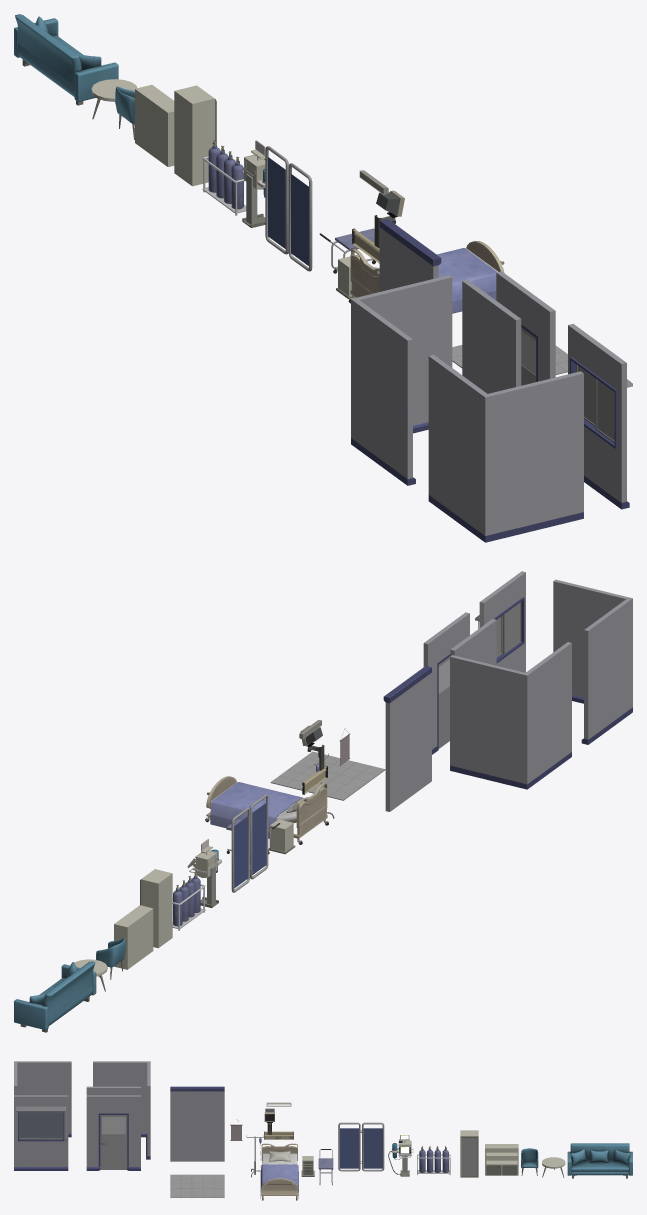
File: streachered.fbx
The picture shows the model from 3 angles, top to bottom: view 1: azimuth 30°, elevation 25°; view 2: azimuth 150°, elevation 25°; view 3: azimuth 270°, elevation 25°; orthographic projection. The views are drawn at different scales.
Parts seen in each view (by area): view 1: Wall1_material, Wall2_material, WindowWall_material, Wall3_material, Sofa_material, Curtain_material, Bed_material, Cabinet1_material, Wall5_material, DoorWall_material, Cabinet2_material, OxygenTube_material (+2 smaller); view 2: Wall2_material, Wall1_material, Wall5_material, Bed_material, WindowWall_material, Sofa_material, Curtain_material, Ground_material, DoorWall_material, Cabinet1_material, Cabinet2_material, Wall3_material (+4 smaller); view 3: Wall5_material, WindowWall_material, DoorWall_material, Wall1_material, Curtain_material, Sofa_material, Wall2_material, Bed_material, Door_material, Ground_material, Cabinet2_material, OxygenTube_material (+10 smaller).
Boxes of the visible parts, box(x1,y1,x2,y2) form: Wall1_material: box(428, 354, 583, 542); Wall2_material: box(351, 275, 452, 485); WindowWall_material: box(568, 323, 632, 509); Wall3_material: box(462, 279, 521, 393); Sofa_material: box(14, 14, 118, 105); Curtain_material: box(265, 146, 312, 271); Bed_material: box(348, 241, 504, 313); Cabinet1_material: box(174, 85, 214, 186); Wall5_material: box(379, 218, 441, 291); DoorWall_material: box(496, 271, 555, 381); Cabinet2_material: box(135, 84, 174, 166); OxygenTube_material: box(202, 140, 246, 215); Wall2_material: box(450, 642, 571, 789); Wall1_material: box(553, 579, 632, 744); Wall5_material: box(383, 666, 431, 811); Bed_material: box(205, 776, 328, 844); WindowWall_material: box(475, 571, 525, 672); Sofa_material: box(14, 961, 96, 1032); Curtain_material: box(231, 794, 268, 892); Ground_material: box(270, 751, 385, 800); DoorWall_material: box(423, 612, 469, 754); Cabinet1_material: box(141, 869, 172, 948); Cabinet2_material: box(114, 905, 153, 969); Wall3_material: box(450, 619, 496, 665); Wall5_material: box(170, 1086, 224, 1161); WindowWall_material: box(14, 1095, 68, 1170); DoorWall_material: box(86, 1095, 140, 1170); Wall1_material: box(14, 1061, 71, 1137); Curtain_material: box(338, 1122, 384, 1171); Sofa_material: box(567, 1143, 632, 1178); Wall2_material: box(93, 1061, 150, 1159); Bed_material: box(260, 1143, 298, 1200); Door_material: box(100, 1115, 127, 1169); Ground_material: box(170, 1174, 224, 1197); Cabinet2_material: box(485, 1144, 518, 1175); OxygenTube_material: box(417, 1146, 450, 1175).
Size of the model in its own units: 93.74 by 49.1 by 370.
Materials: 30 (30 with a texture image).
